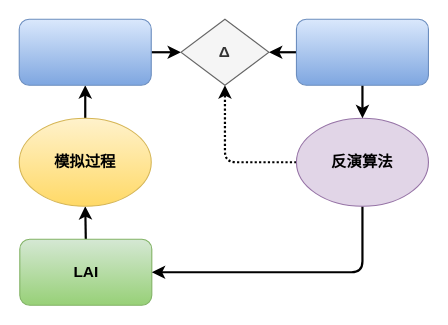
This 448x325 diagram has some shape labels left out. The shapes that lost their labels are listed below. From the top down, each one's box as (x1, y1, x2, y2) in pixels, then its label:
(18, 18, 151, 85): 冠层反射率
(295, 18, 428, 85): 反射率观测值
